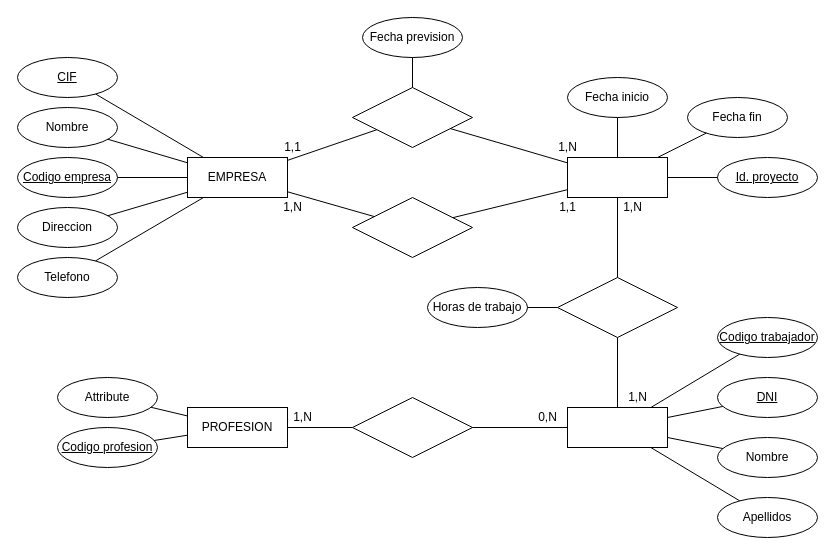
This 835x555 diagram has some shape labels left out. The centre of each missing label's shape, as x and y in pixels:
HACE: the point at 412,227
PLANIFICA: the point at 412,117
PROYECTO: the point at 617,177
REALIZA: the point at 617,307
TIENE: the point at 412,427
TRABAJADOR: the point at 617,427
